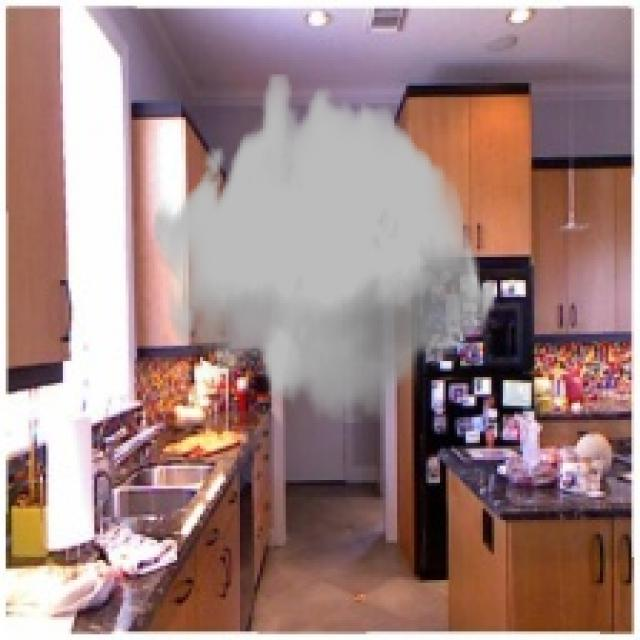smoke: (152, 74, 497, 423)
